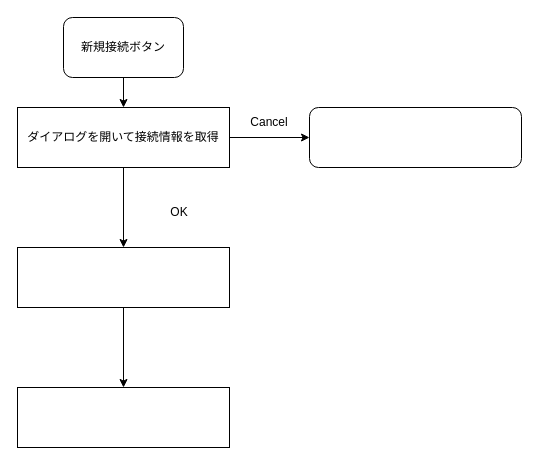
The diagram is 539 pixels wide and 465 high, and some of its shapes have lost their labels. Each missing label, with the centre of its shape:
"キャンセル" goes at point 415,137.
"取得した情報を元にapp.xaml.csのserialPortManagementから接続" goes at point 123,277.
